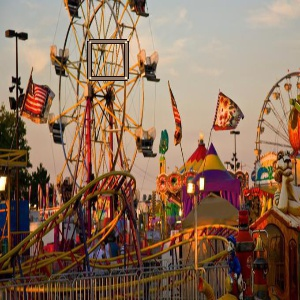square: (85, 36, 131, 83)
